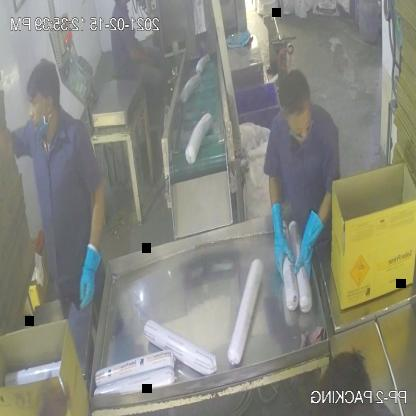glove: (294, 197, 328, 287), (76, 231, 106, 315), (268, 195, 295, 286)
